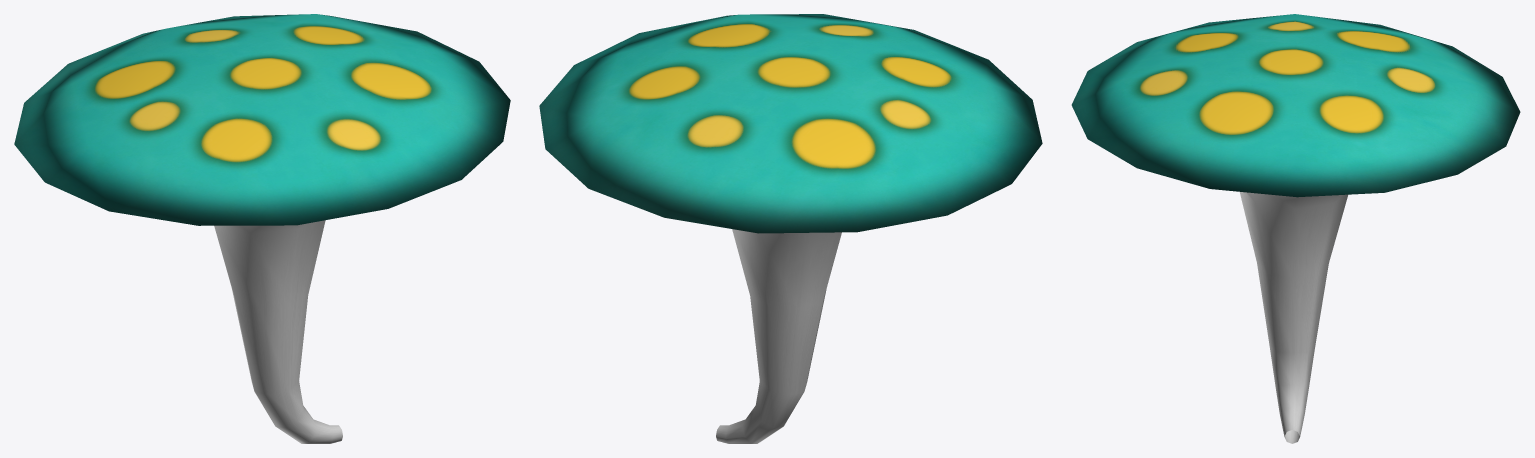
Rendered from Mushroom_Curved1_Blue.fbx.
3 views of the same model, side by side, from view 1: azimuth 30°, elevation 25°; view 2: azimuth 150°, elevation 25°; view 3: azimuth 270°, elevation 25° (orthographic). The views are drawn at different scales.
Parts seen in each view (by area): view 1: Mesh; view 2: Mesh; view 3: Mesh.
Boxes of the visible parts, box(x1,y1,x2,y2) form: Mesh: box(14, 14, 510, 443); Mesh: box(539, 14, 1042, 443); Mesh: box(1071, 14, 1520, 443).
Bounding box in the file's own units: 229 × 195 × 225.
